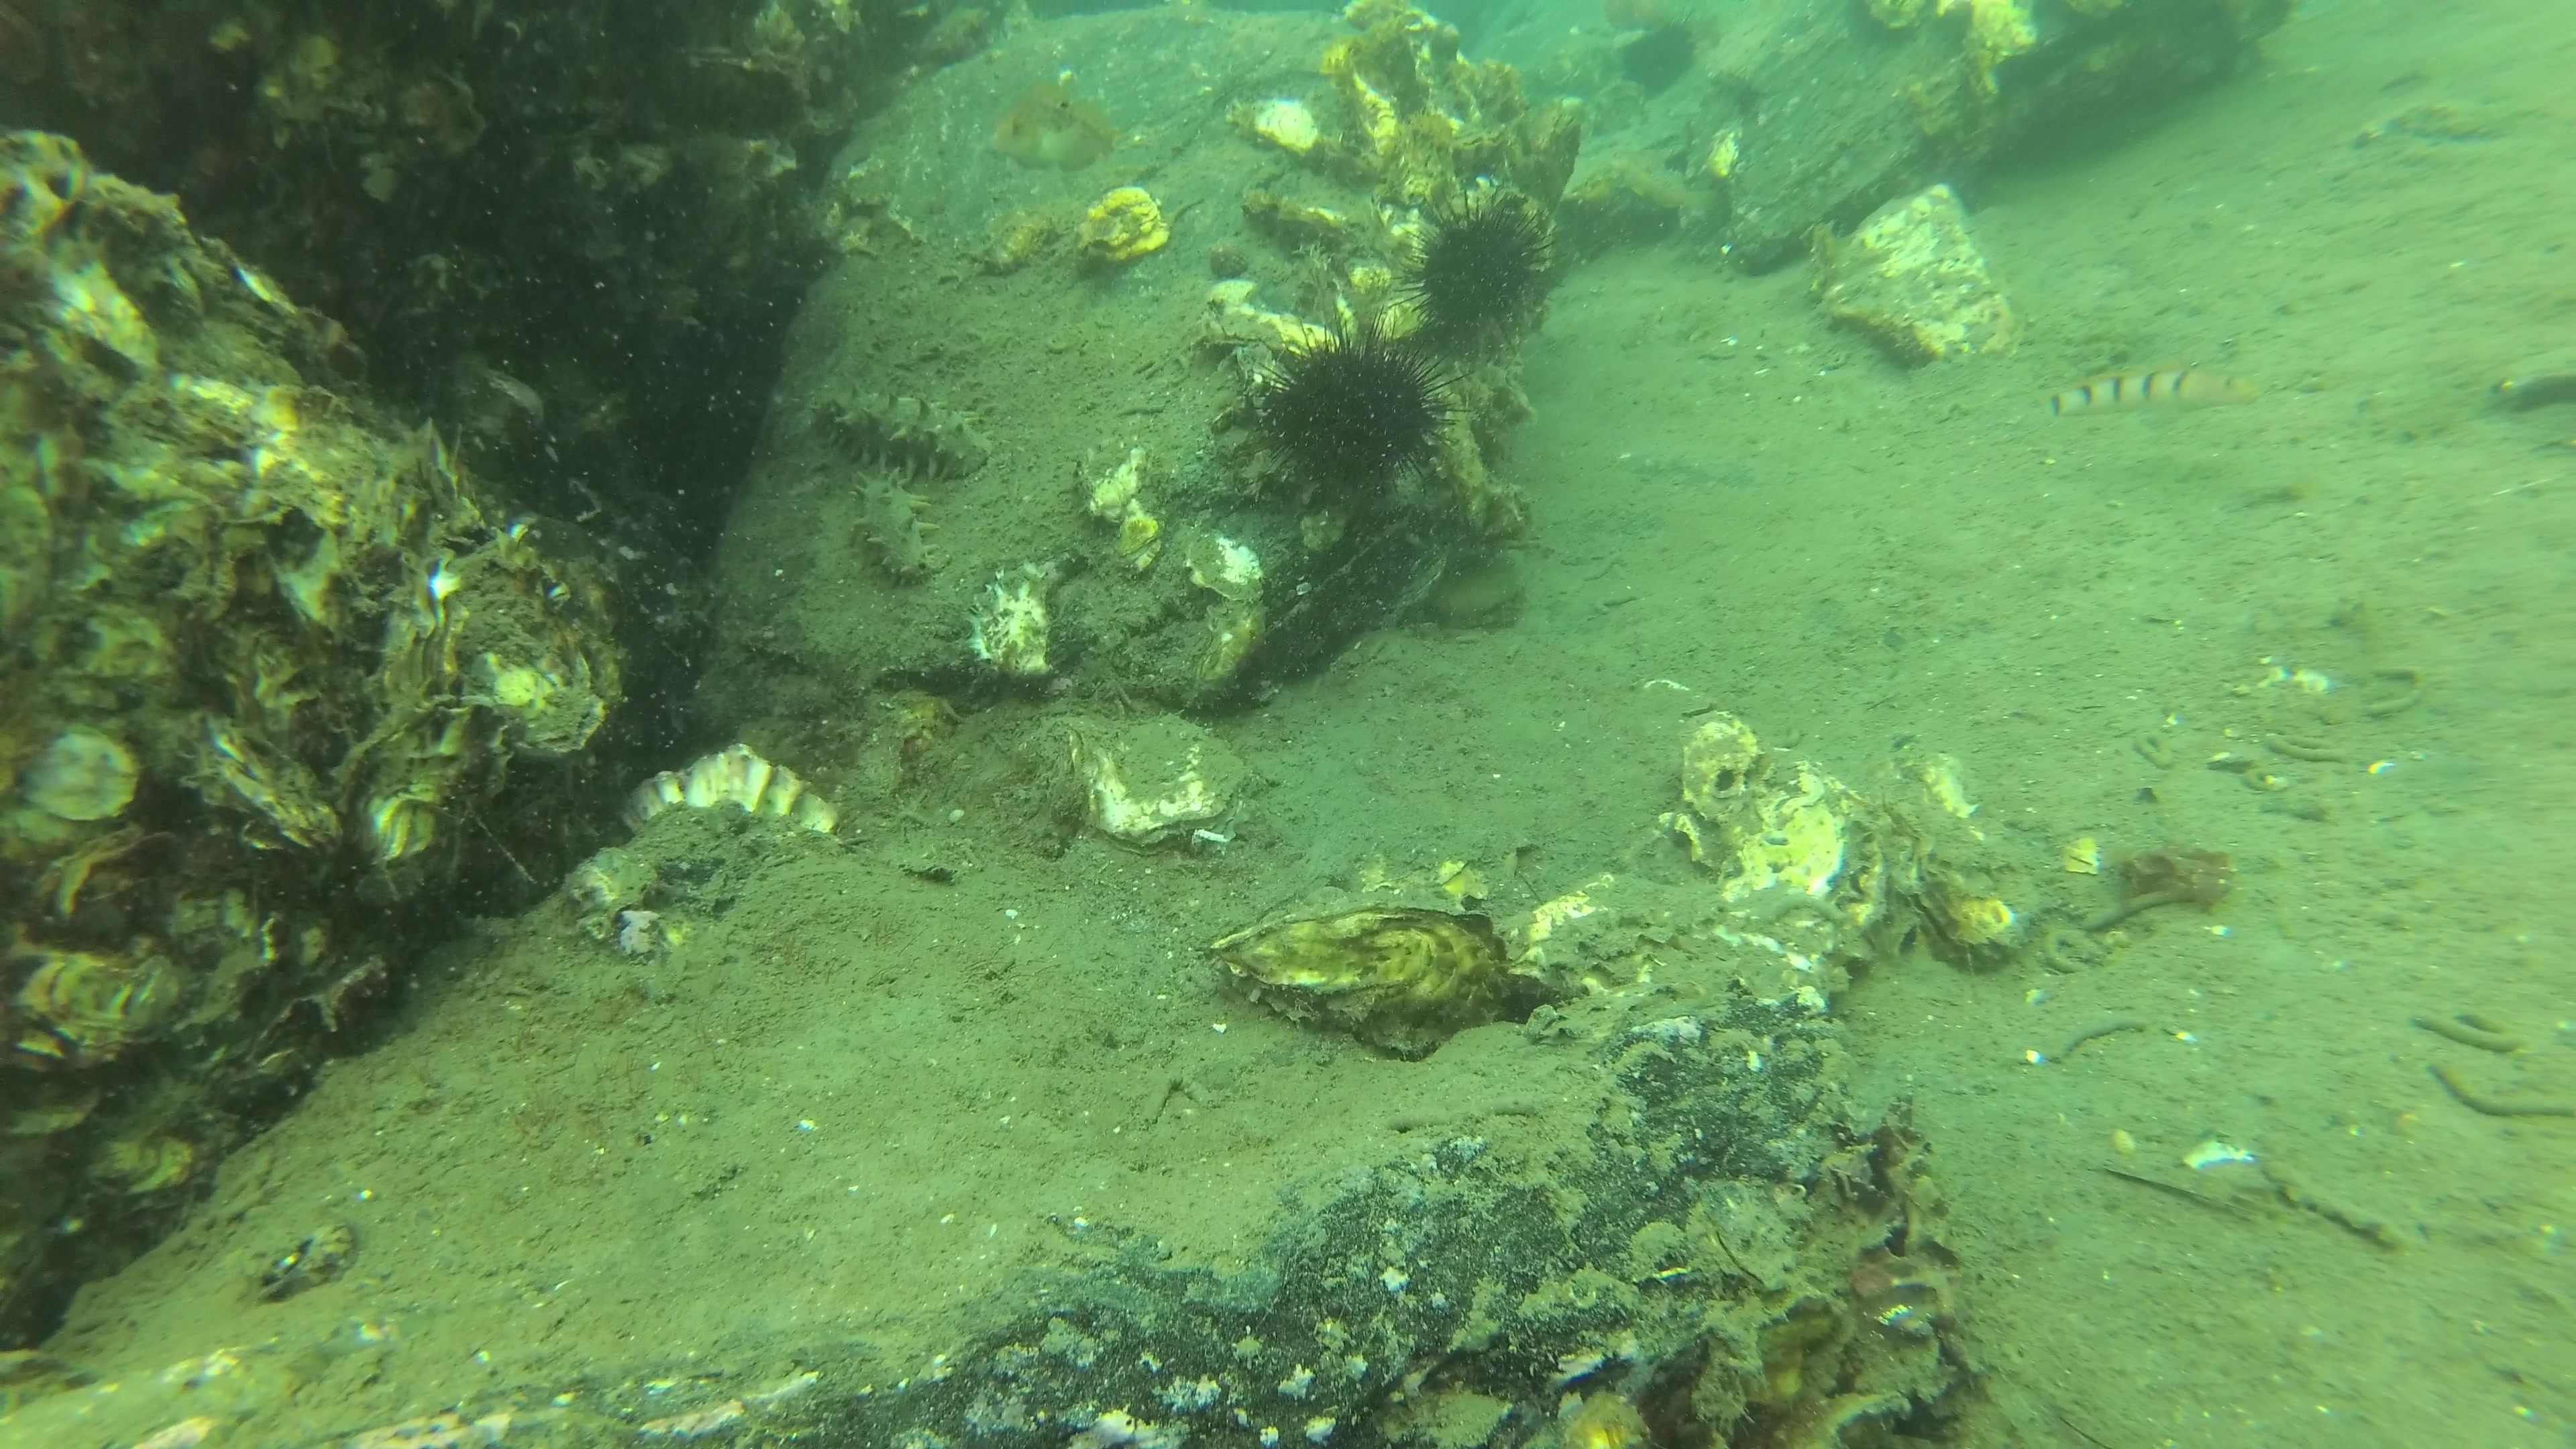echinus: (1244, 326, 1460, 517), (1394, 189, 1557, 345), (1601, 7, 1718, 108)
holothurian: (814, 382, 1003, 488), (853, 481, 950, 594)
